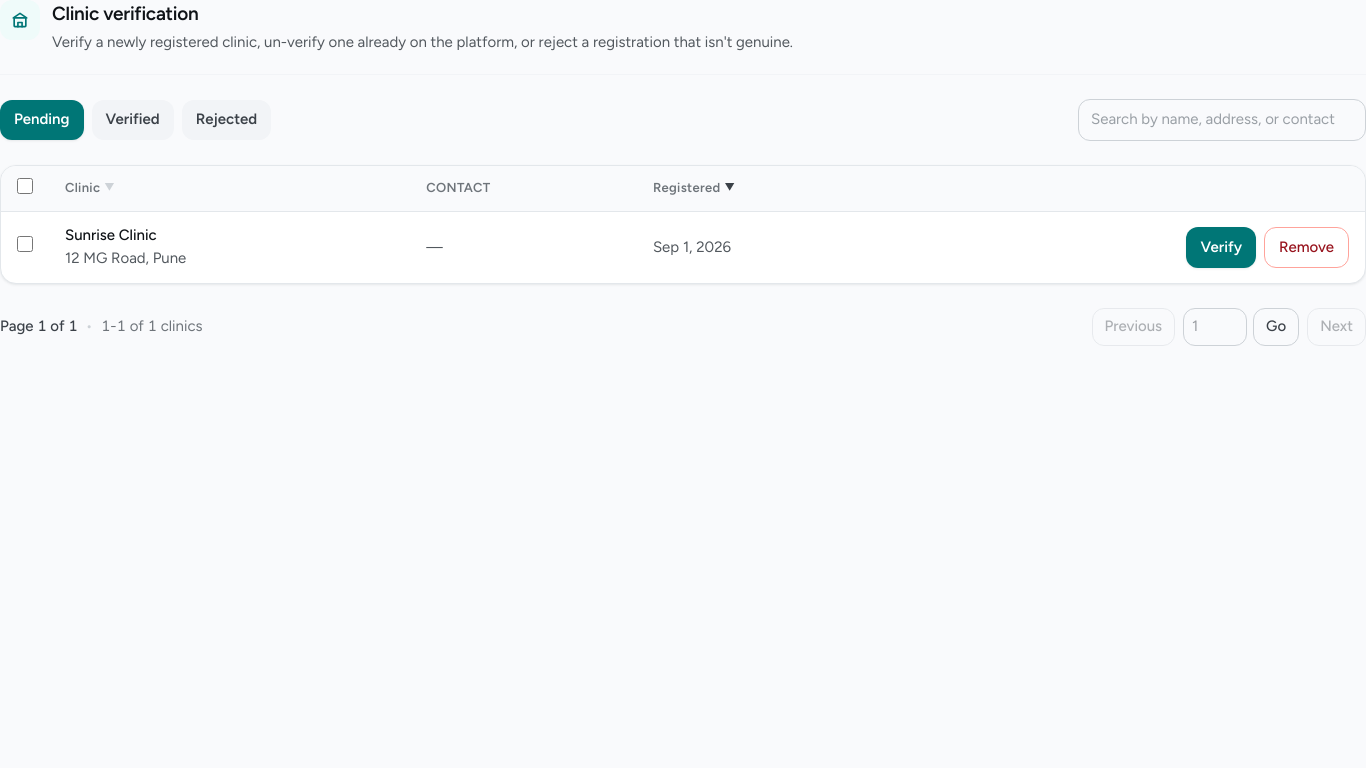
Test: PendingClinicsList › lets Super Admin set a specific admin password
Expected: the text "Sunrise Clinic" is shown, x1=65 y1=226 x2=157 y2=244
Click the tab "Verified" at [133, 120], box x1=92 y1=100 x2=174 y2=140
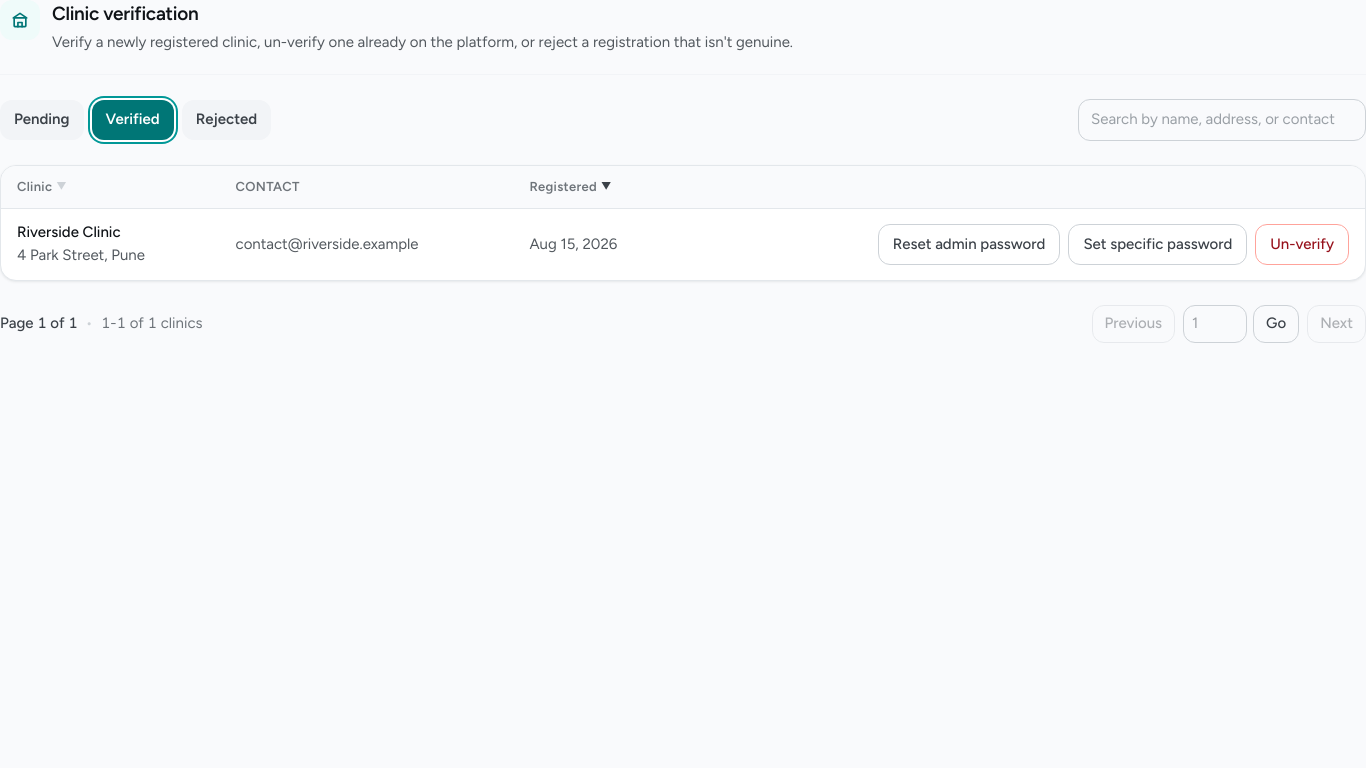
Click the button "Set specific password" at [1158, 244], box x1=1068 y1=224 x2=1247 y2=265
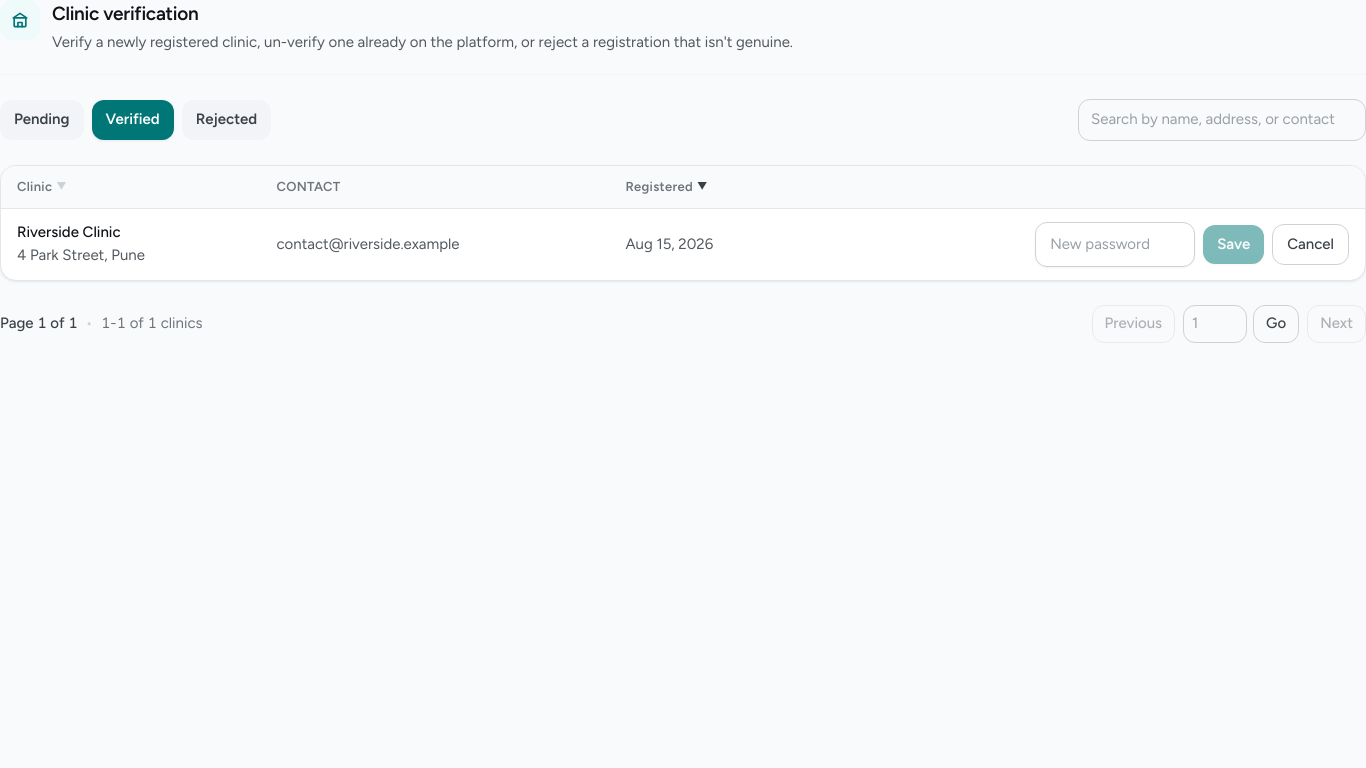
Type "starqweR@1" into the field named "new admin password" at [1115, 244], box x1=1035 y1=222 x2=1195 y2=267
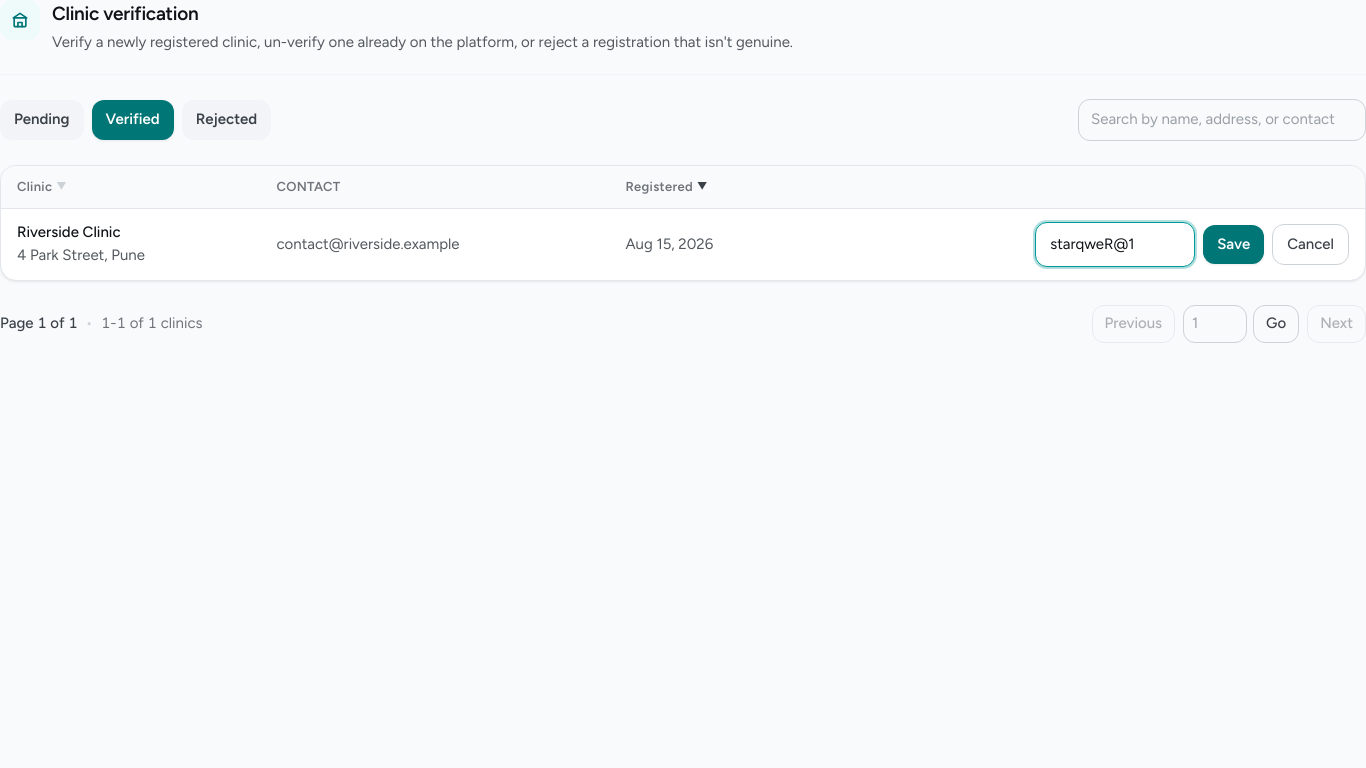
Click the button "Save" at [1234, 244], box x1=1203 y1=225 x2=1264 y2=264
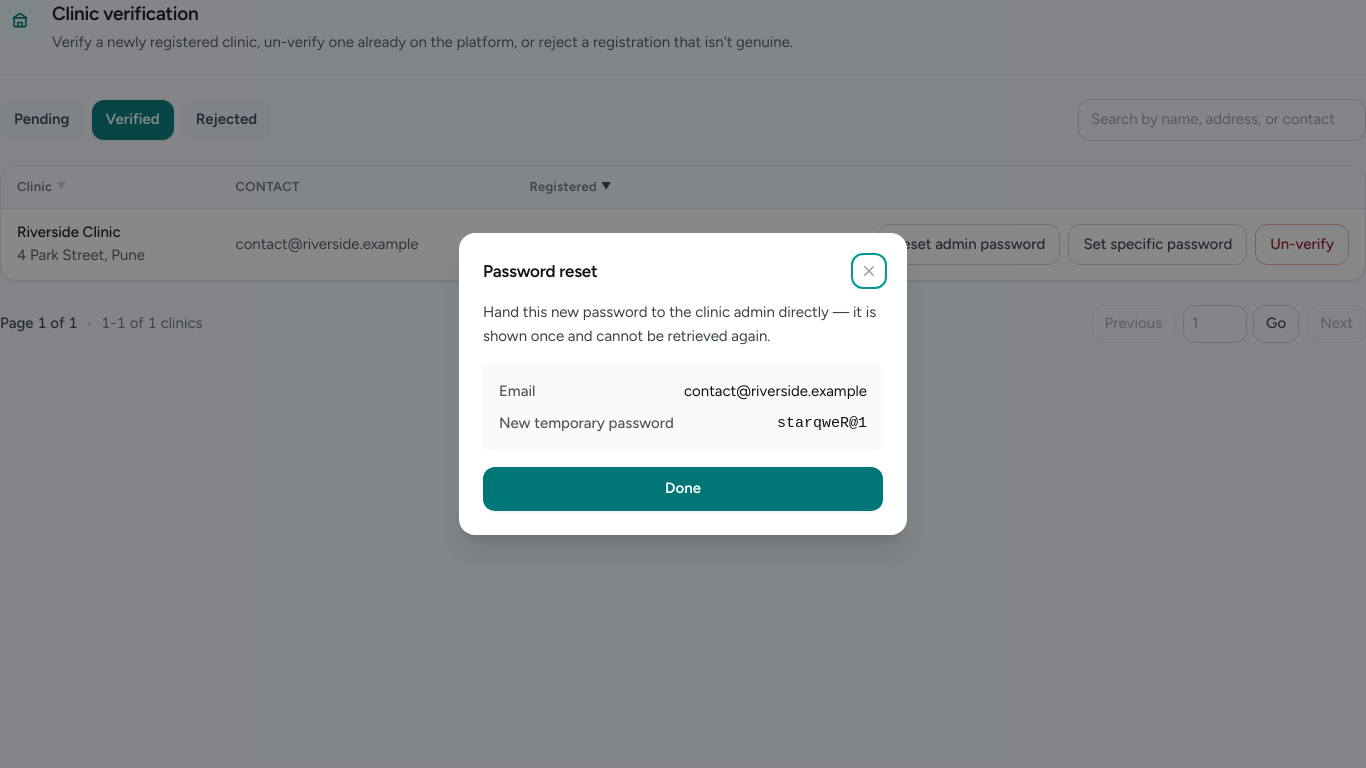
Expected: the text "starqweR@1" is shown, x1=777 y1=412 x2=867 y2=435
